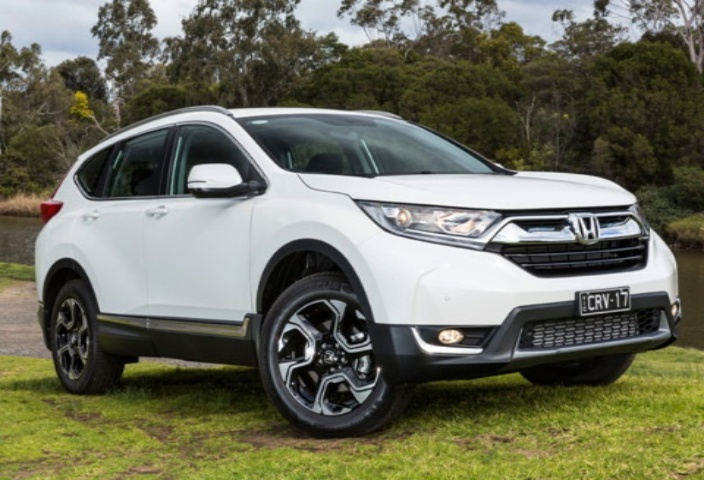camper: (25, 96, 695, 438)
